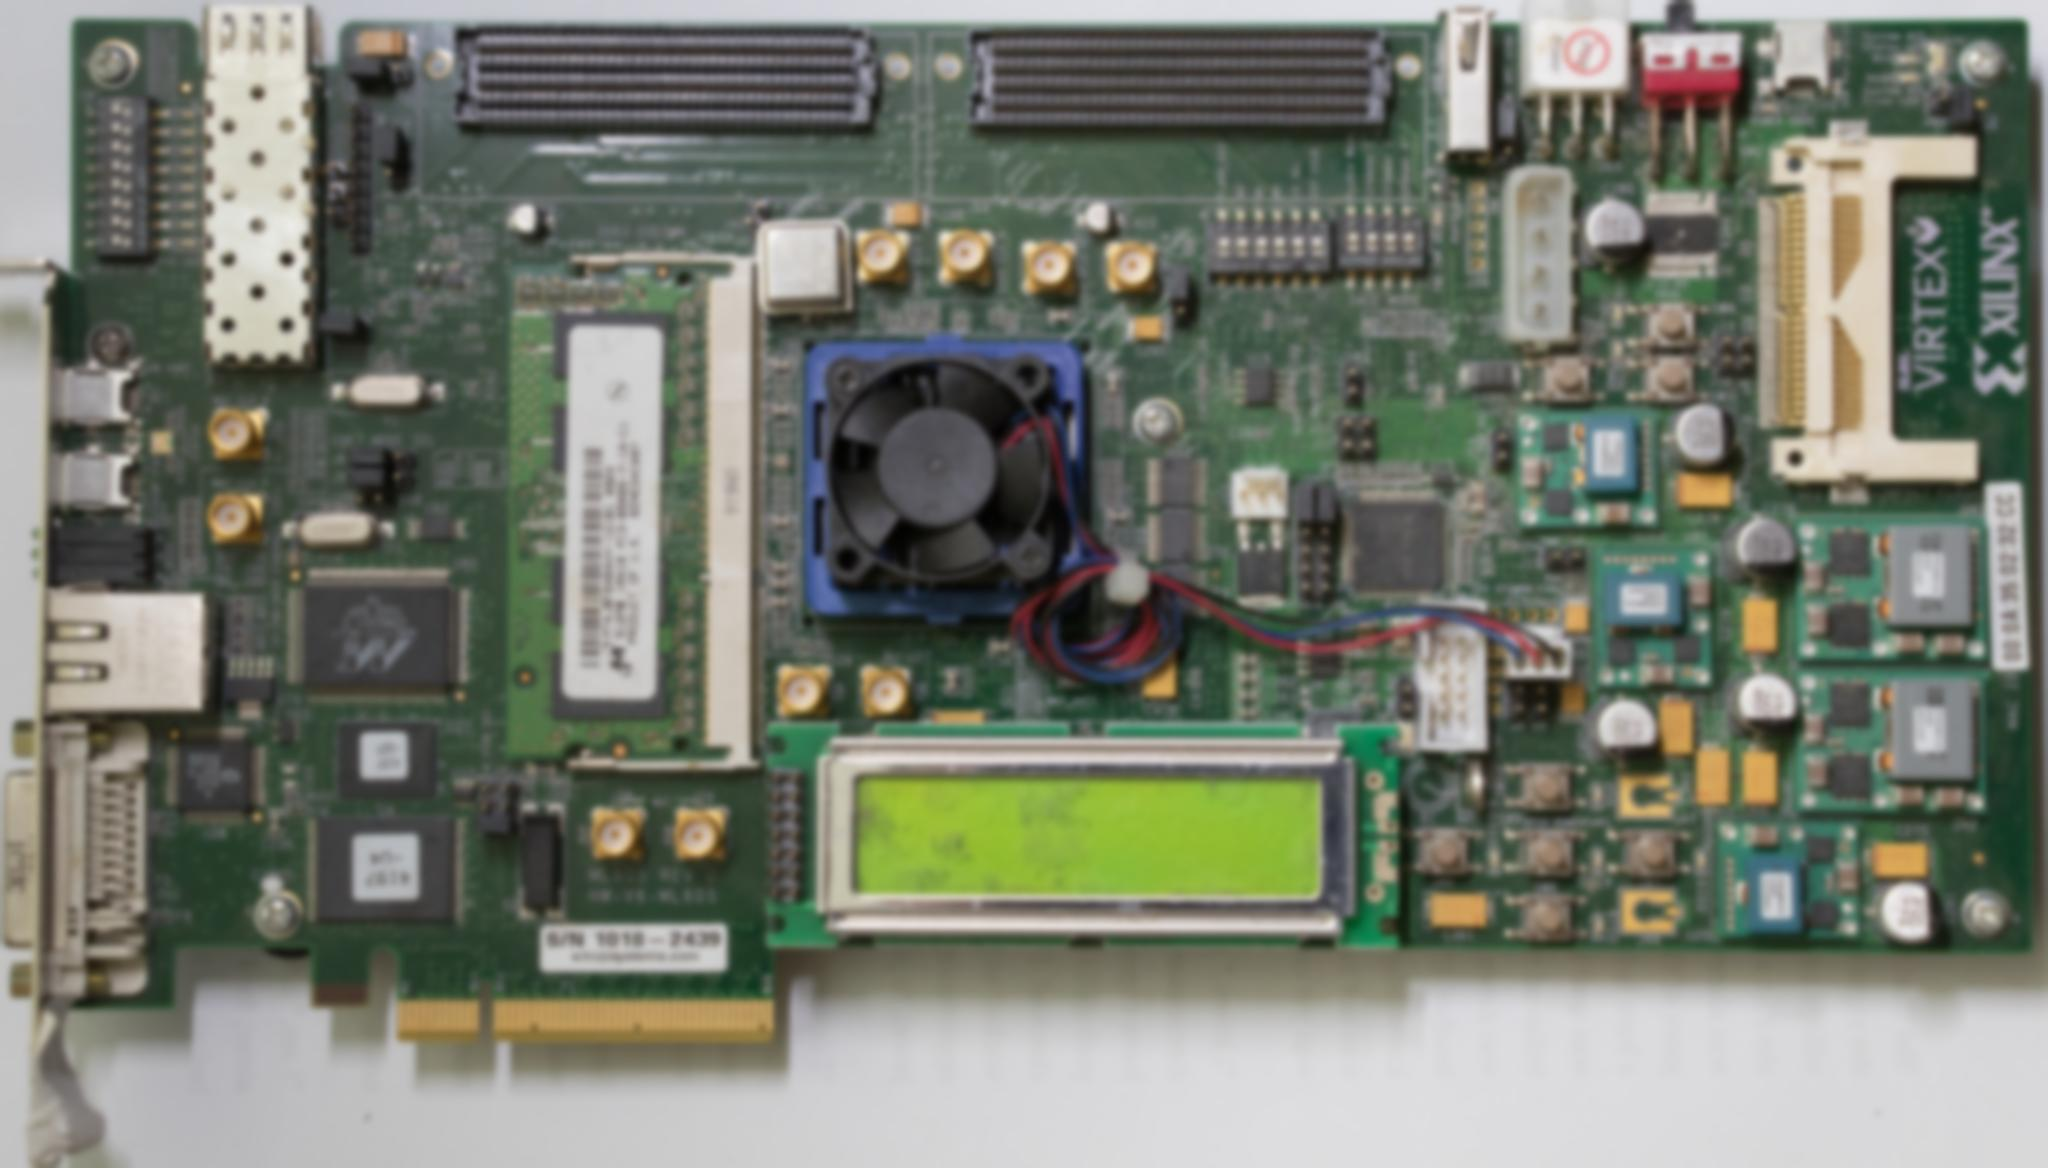tranzystor: (1234, 539, 1291, 611), (414, 259, 442, 294), (1426, 167, 1454, 197)
